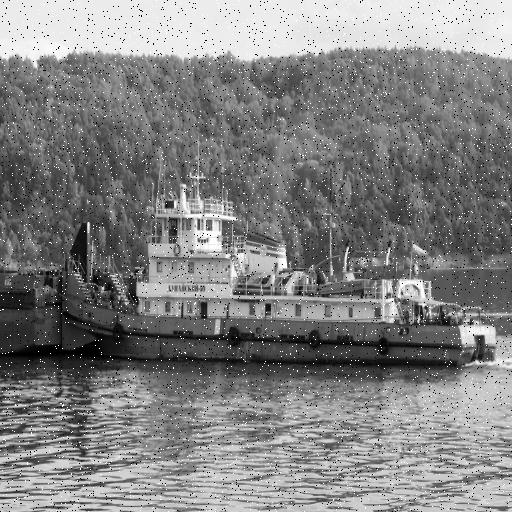tugboat: (57, 172, 501, 375)
